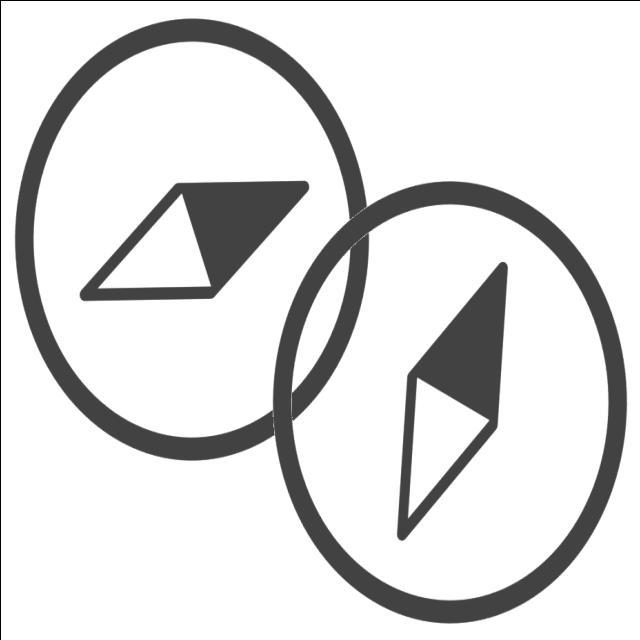compass: (265, 168, 637, 638), (12, 10, 378, 469)
